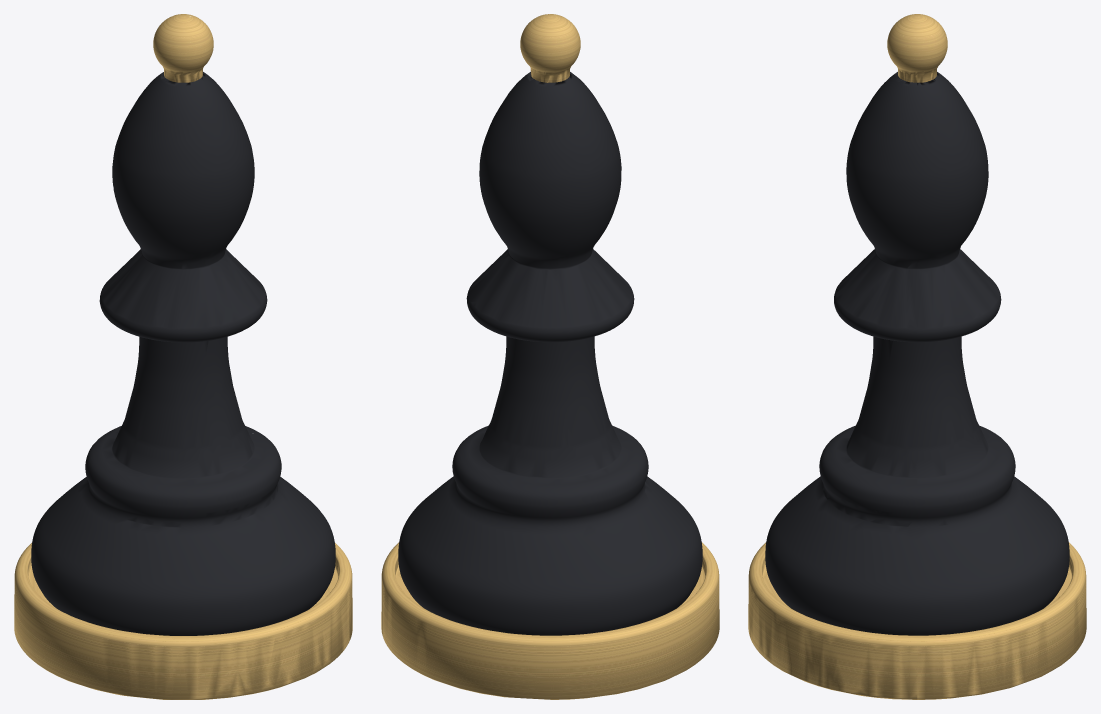
Rendered from bishop-black-hd.glb.
The picture shows the model from 3 angles, left to right: view 1: azimuth 30°, elevation 25°; view 2: azimuth 150°, elevation 25°; view 3: azimuth 270°, elevation 25°; orthographic projection.
Visible parts, largest first — view 1: Aurum Noir – Bishop; view 2: Aurum Noir – Bishop; view 3: Aurum Noir – Bishop.
Boxes of the visible parts, left/top/right/bottom form: Aurum Noir – Bishop: left=14, top=14, right=352, bottom=699; Aurum Noir – Bishop: left=381, top=14, right=719, bottom=699; Aurum Noir – Bishop: left=748, top=14, right=1086, bottom=699.
Bounding box in the file's own units: 0.6609 × 1.32 × 0.6607.
2 materials, 1 textured.
